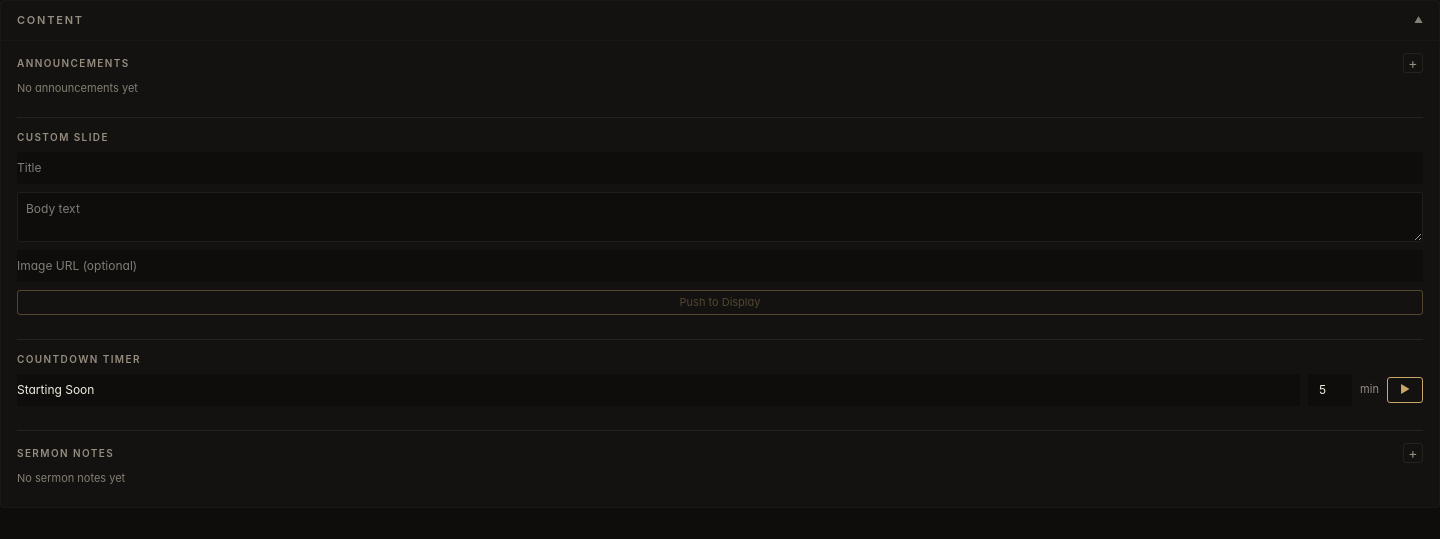
it: ContentPanel › shows create form when + button clicked
Click the 1st button titled "New announcement" at (1413, 63), box [1403,53,1423,73]
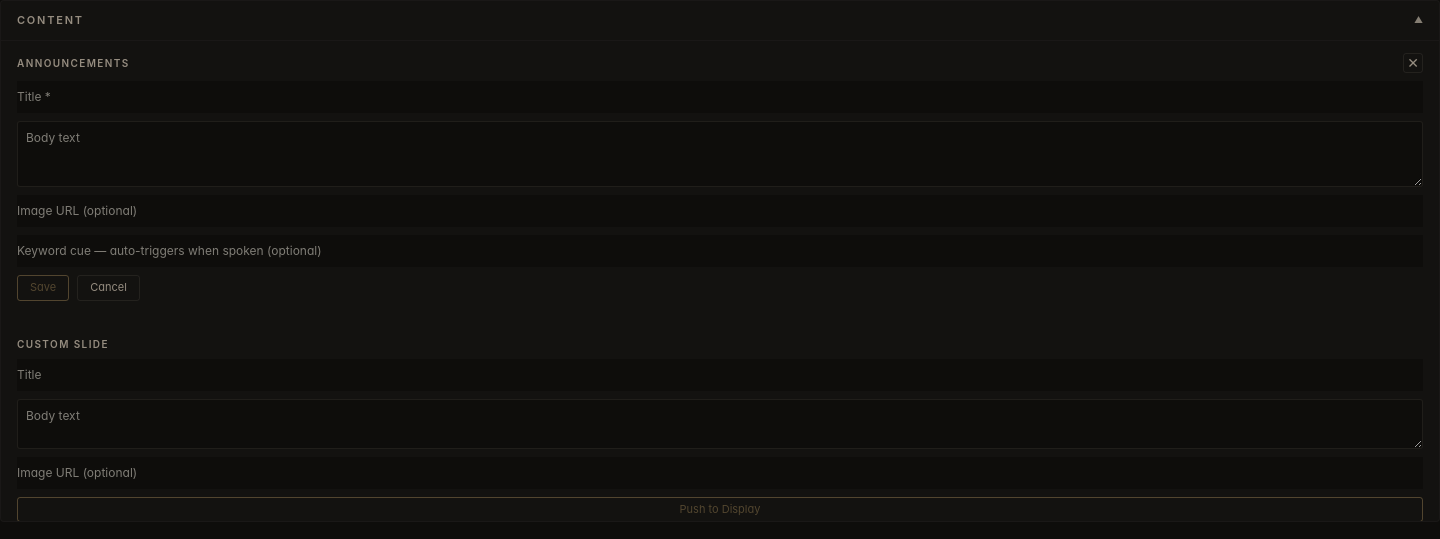
Expected: the field with placeholder "Title *" is shown, [17,81,1423,113]
